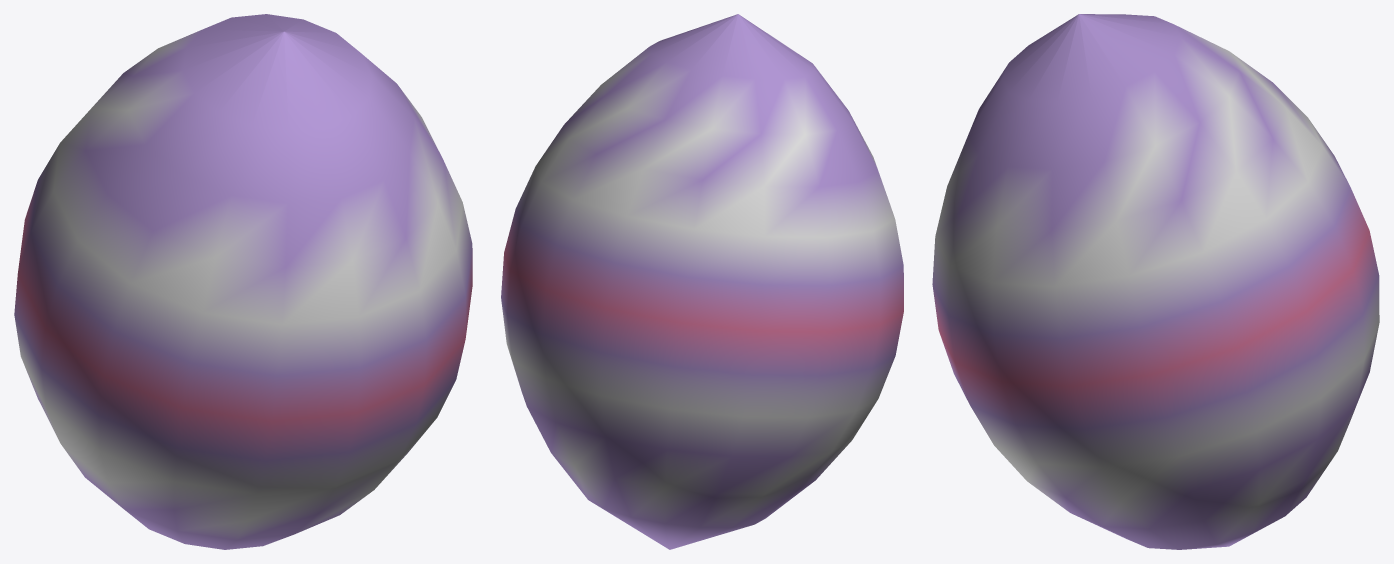
The model's file is item_ev_egg_3.glb.
The picture shows the model from 3 angles, left to right: view 1: azimuth 30°, elevation 25°; view 2: azimuth 150°, elevation 25°; view 3: azimuth 270°, elevation 25°; orthographic projection. The views are drawn at different scales.
Visible parts, largest first — view 1: item_ev_egg_3_gloss; view 2: item_ev_egg_3_gloss; view 3: item_ev_egg_3_gloss.
Boxes of the visible parts, x1,y1,x2,y2 form: item_ev_egg_3_gloss: [14, 14, 472, 549]; item_ev_egg_3_gloss: [501, 14, 903, 549]; item_ev_egg_3_gloss: [932, 14, 1379, 549].
Bounding box in the file's own units: 0.11 × 0.1453 × 0.1106.
